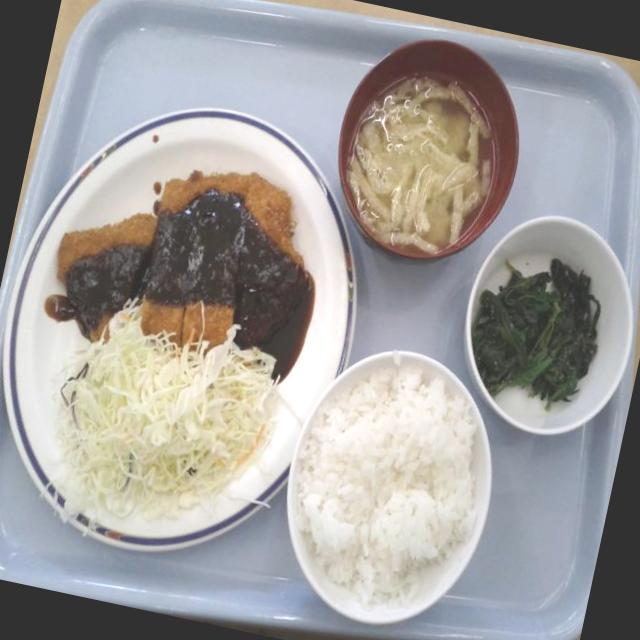Rice: (254, 330, 522, 636)
